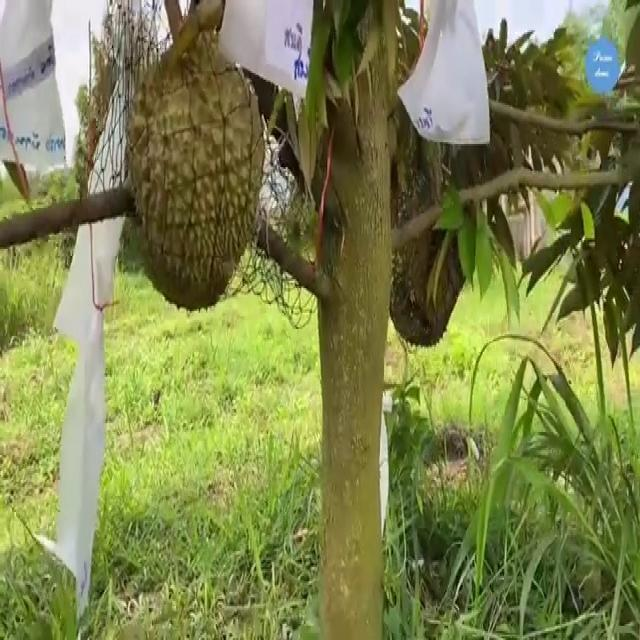durian: (121, 29, 271, 325)
